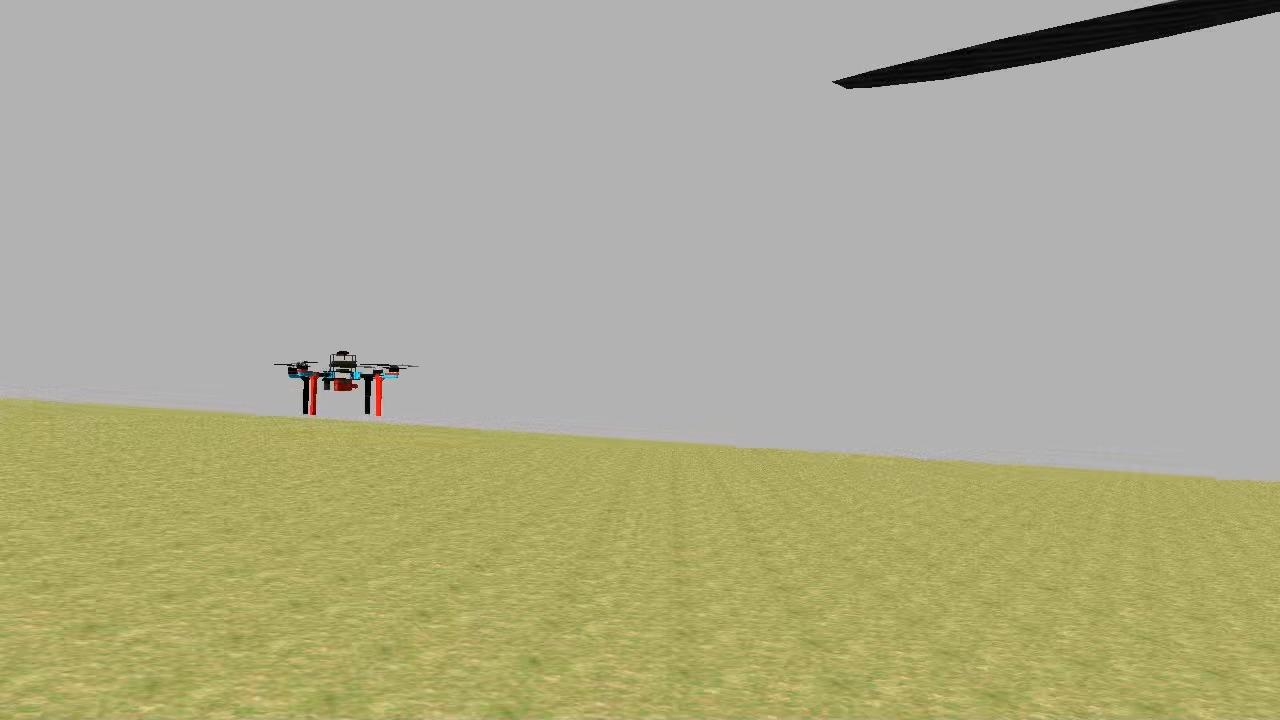UAV: (282, 348, 406, 424)
